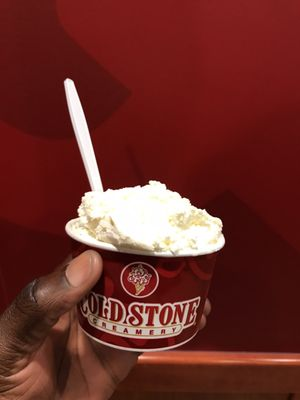salad: (62, 78, 105, 194)
